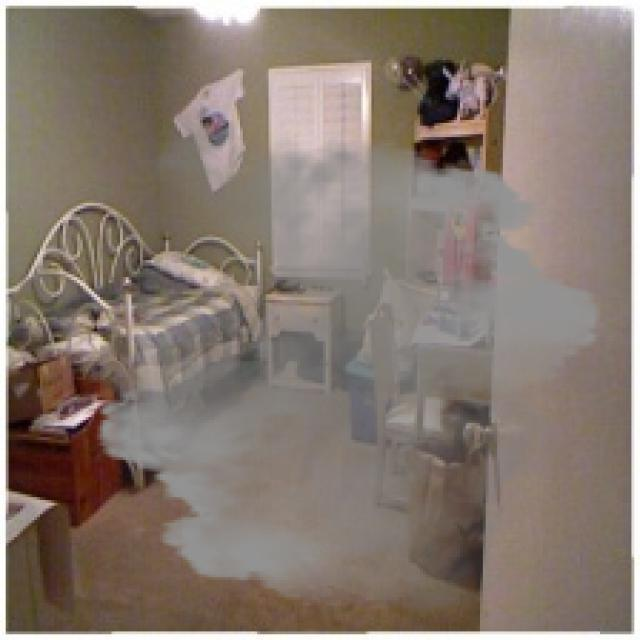Smoke: (80, 106, 617, 628)
